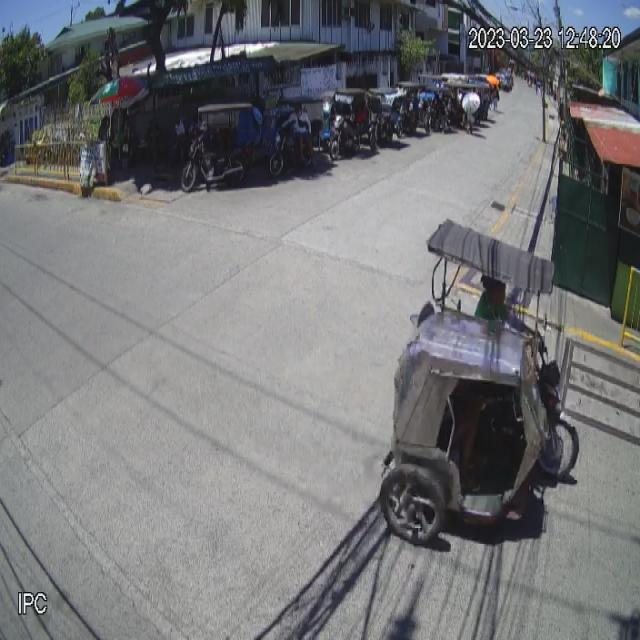Tricycle: (378, 218, 580, 546)
